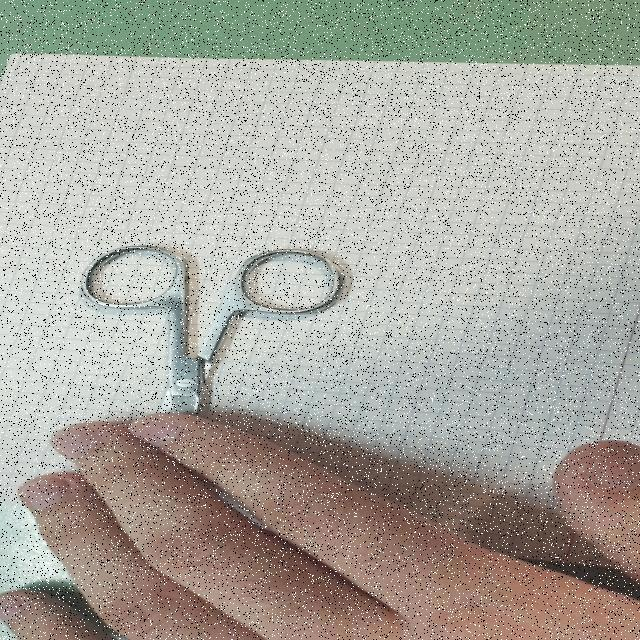scissors: (64, 240, 359, 480)
